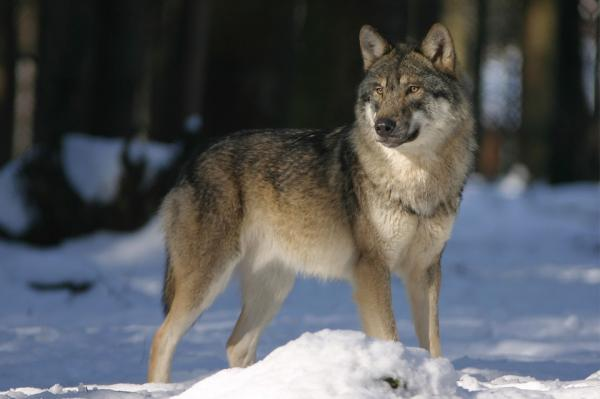Lobo: (150, 17, 475, 380)
